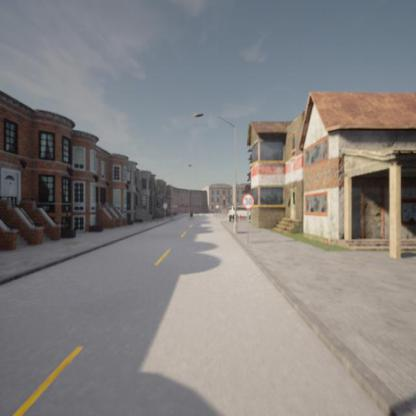traffic_sign_30: (242, 195, 254, 209)
